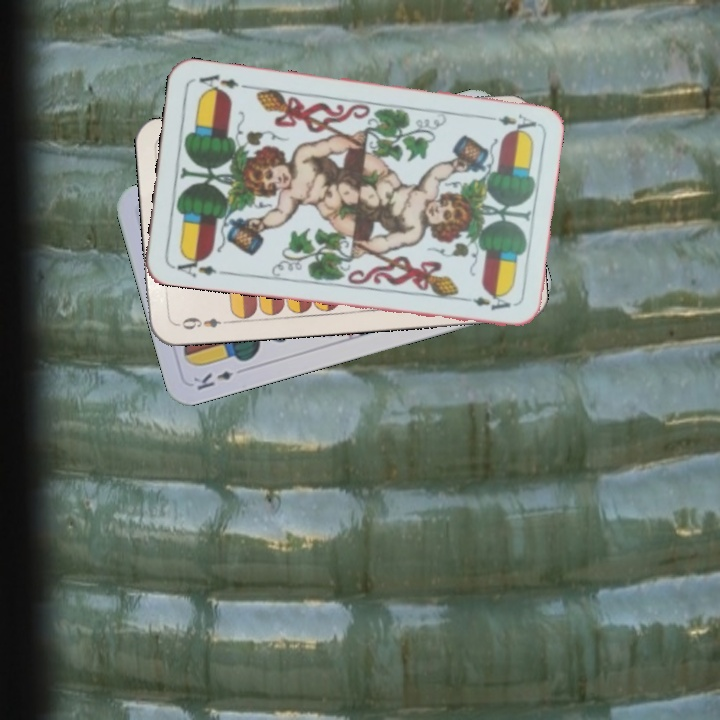E9: (173, 313, 223, 333)
EA: (480, 109, 539, 134), (169, 251, 219, 280)
EK: (189, 367, 236, 393)
